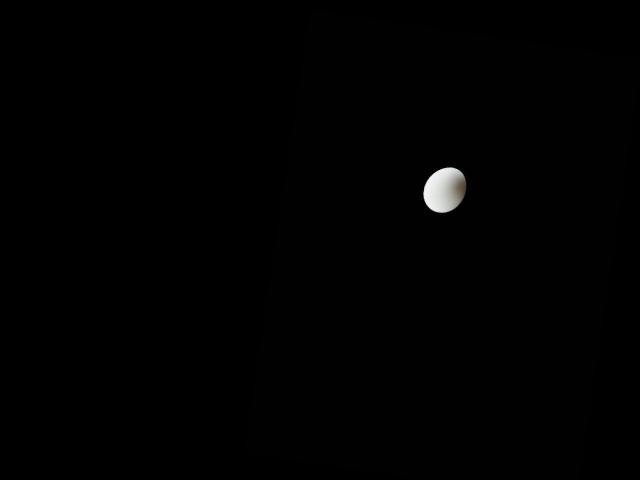egg: (421, 163, 468, 215)
